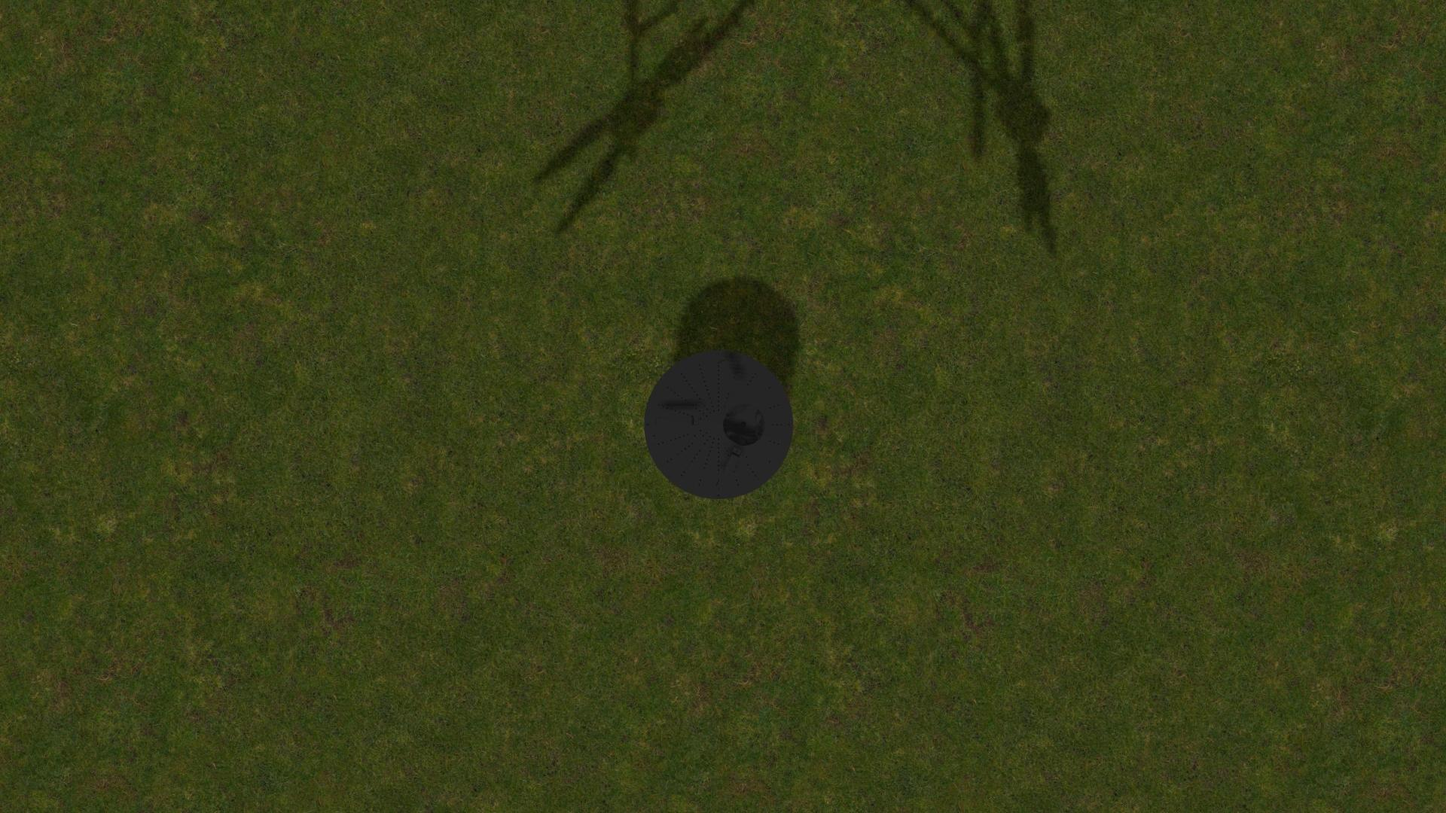alca: (715, 447, 742, 493), (716, 356, 742, 400), (651, 417, 699, 427)
armadilha: (644, 349, 794, 499)
